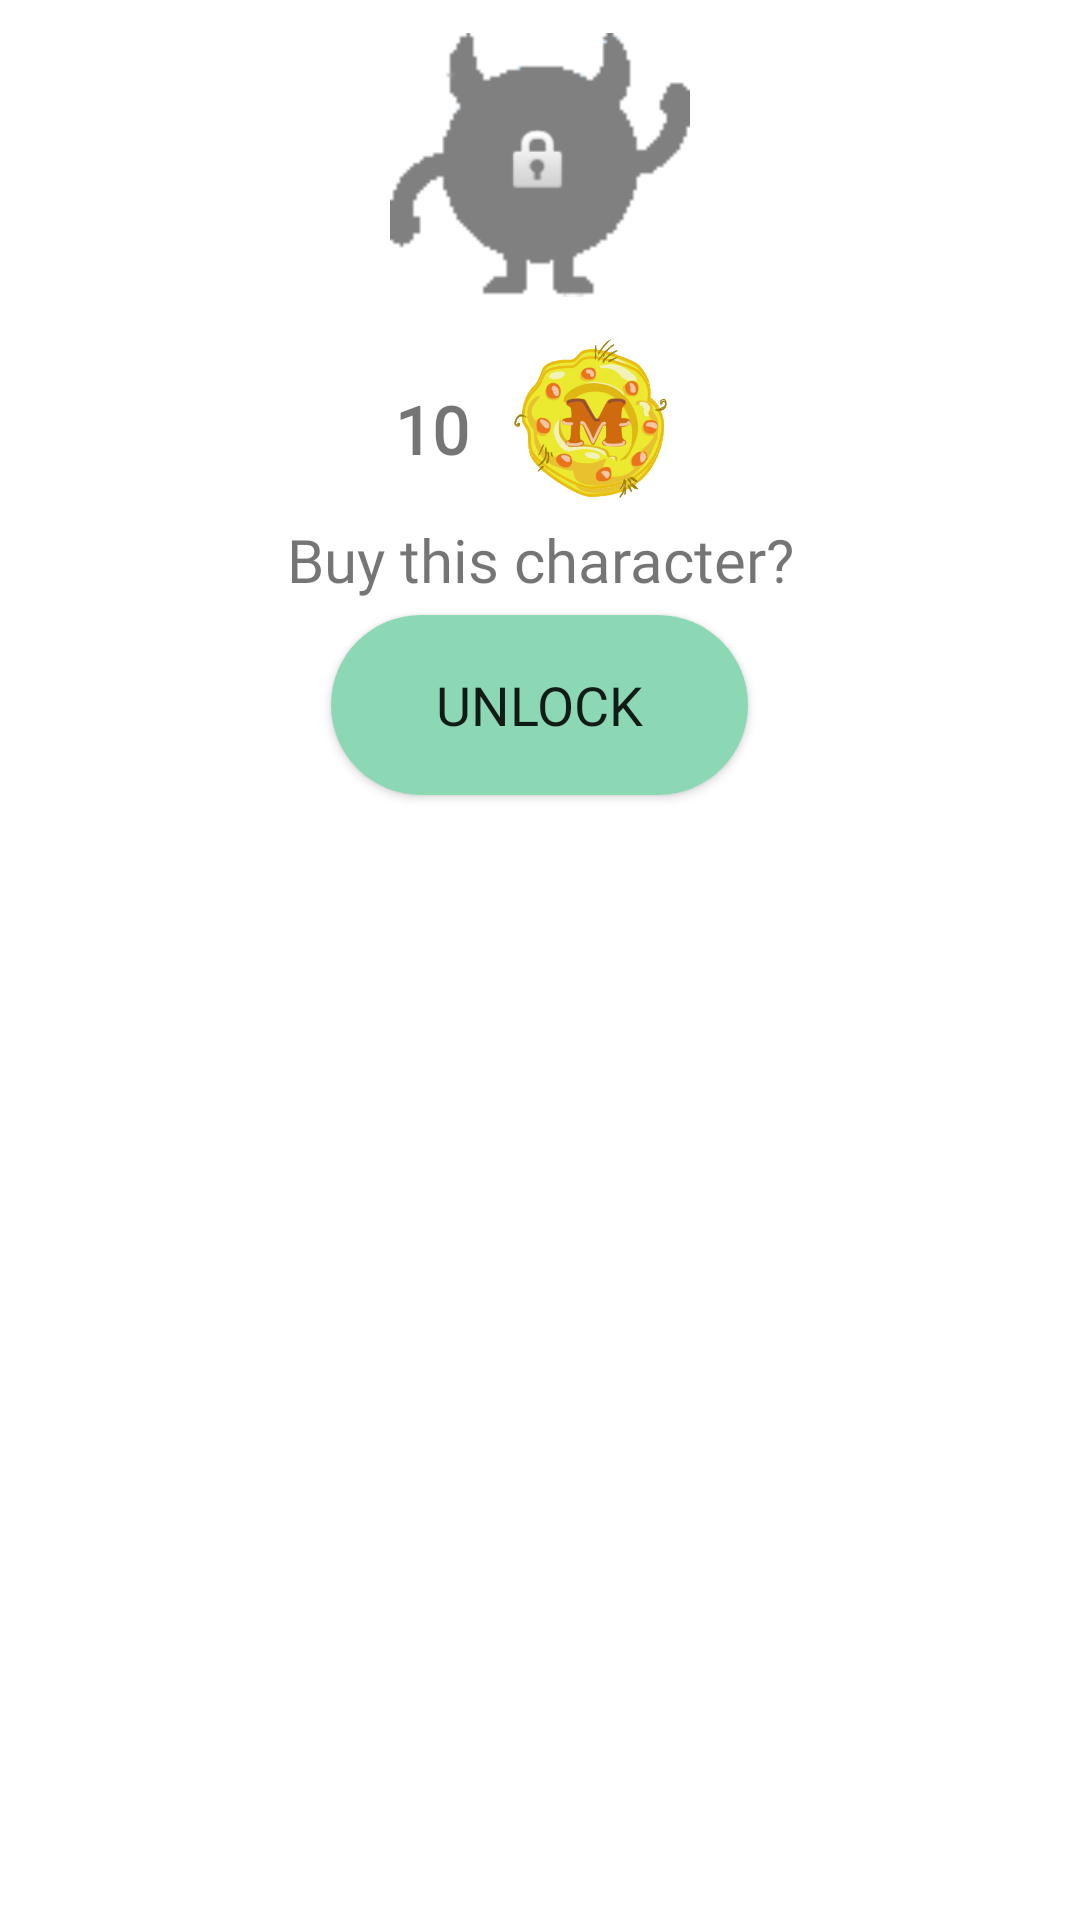

Named icons in this screenshot (1080px×1920px) and their bounding boxes, (x1, y1, x2, y2):
money: (514, 339, 667, 498)
